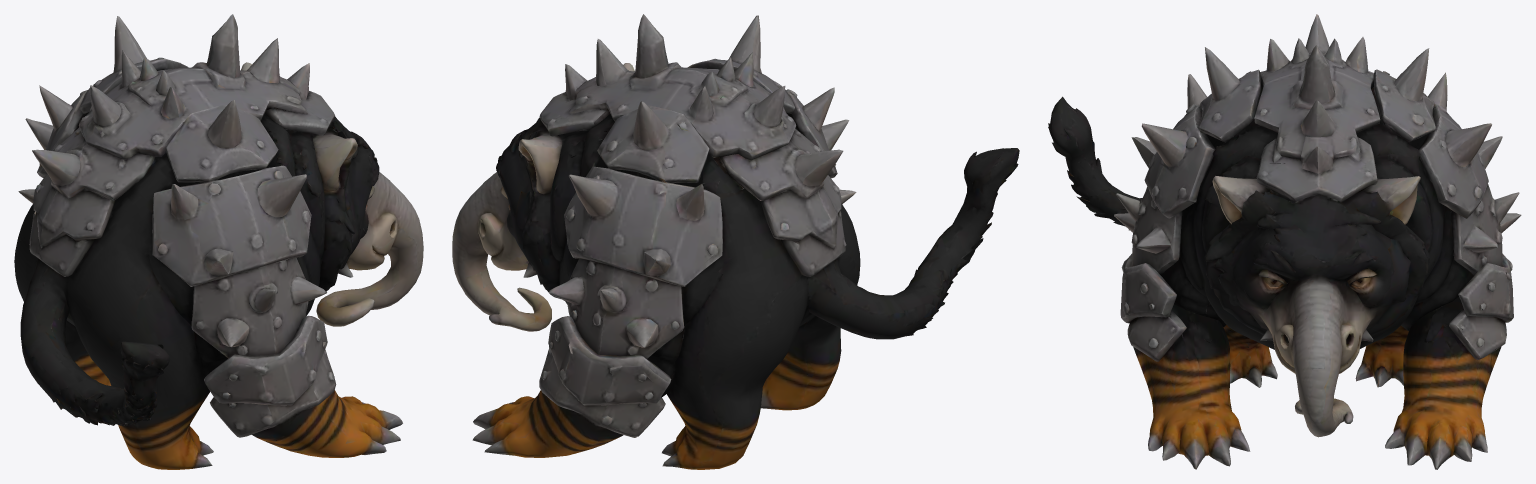
Rendered from bulgasari.glb.
3 views of the same model, side by side, from view 1: azimuth 30°, elevation 25°; view 2: azimuth 150°, elevation 25°; view 3: azimuth 270°, elevation 25° (orthographic). The views are drawn at different scales.
Parts seen in each view (by area): view 1: geometry_0; view 2: geometry_0; view 3: geometry_0.
Boxes of the visible parts, x1=… form: geometry_0: x1=14, y1=14, x2=423, y2=469; geometry_0: x1=452, y1=14, x2=1019, y2=469; geometry_0: x1=1048, y1=14, x2=1521, y2=469.
Size of the model in its own units: 0.9994 by 0.8653 by 0.9862.
Materials: 1 (1 with a texture image).
